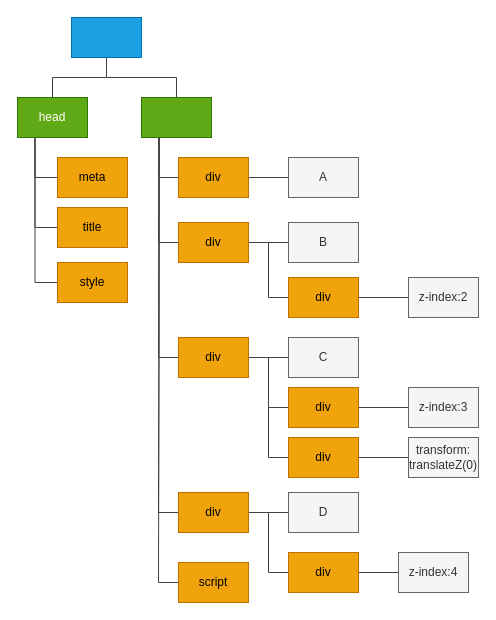
The diagram is 496 pixels wide and 620 high, and some of its shapes have lost their labels. The centre of each missing label's shape, as x and y in pixels:
body: the point at 176,117
html: the point at 106,37
